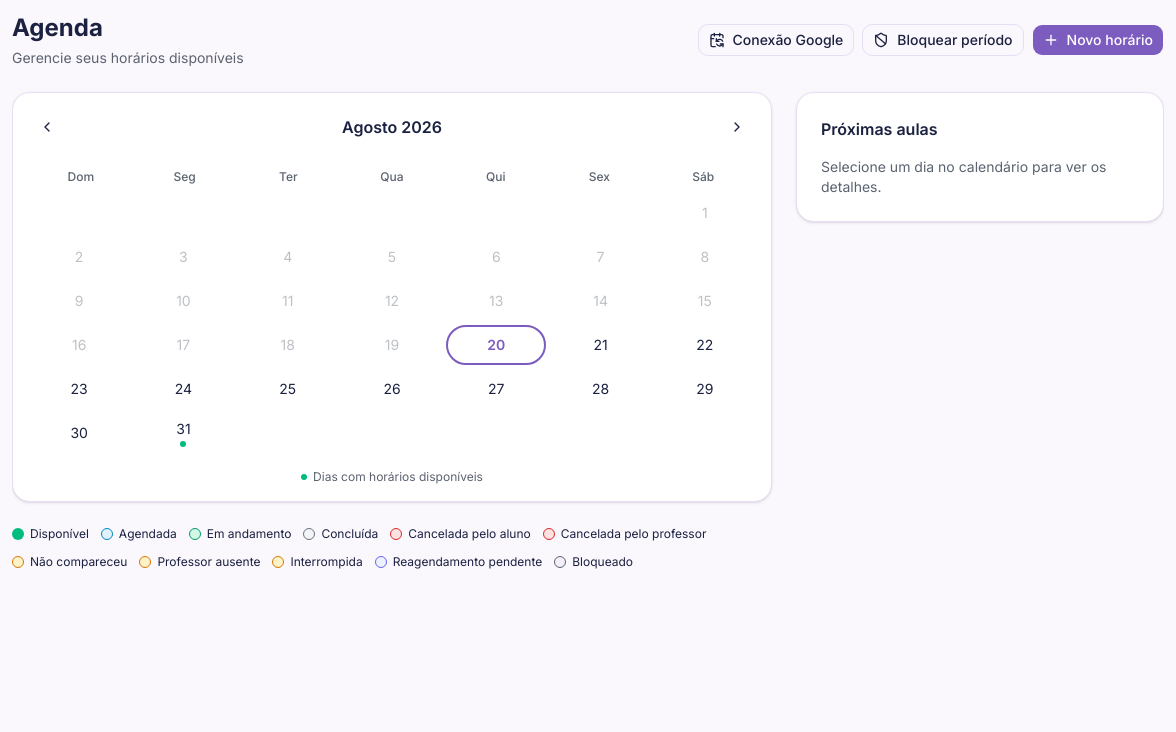
it: AdminScheduleClient - fuso do professor (GAP-08) › RED: W4 detalhe do slot mostra o horario no fuso do professor
Click the cell "31" at (183, 433), box [133,413,234,453]
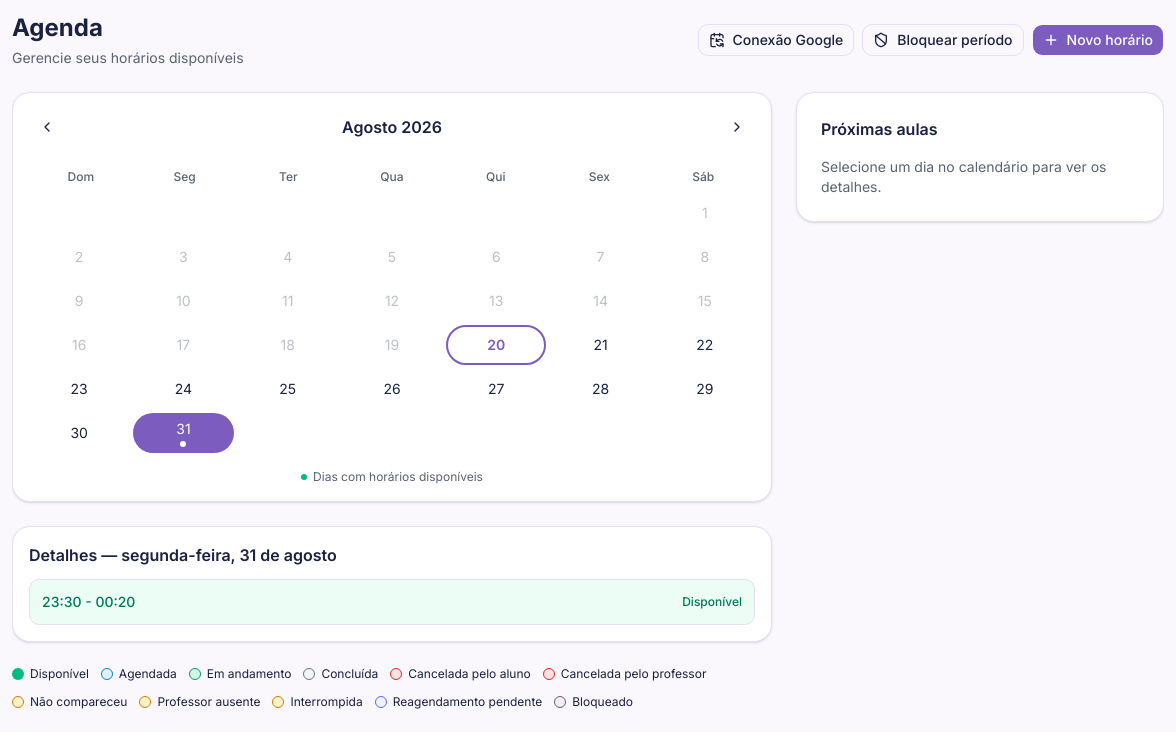
Click the button with test id "admin-calendar-slot-slot-w4" at (62, 602), box [29,579,755,625]
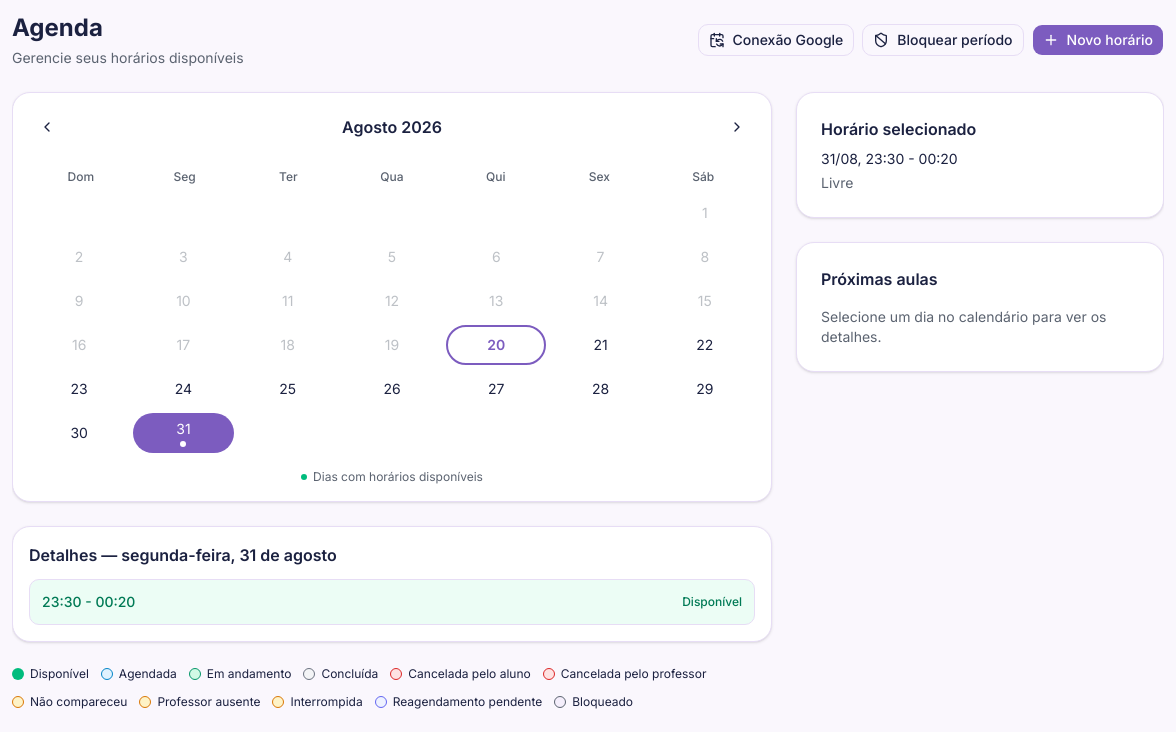
Result: the text with test id "admin-schedule-slot-detail-time" shows "23:30" at [821,150,904,167]
